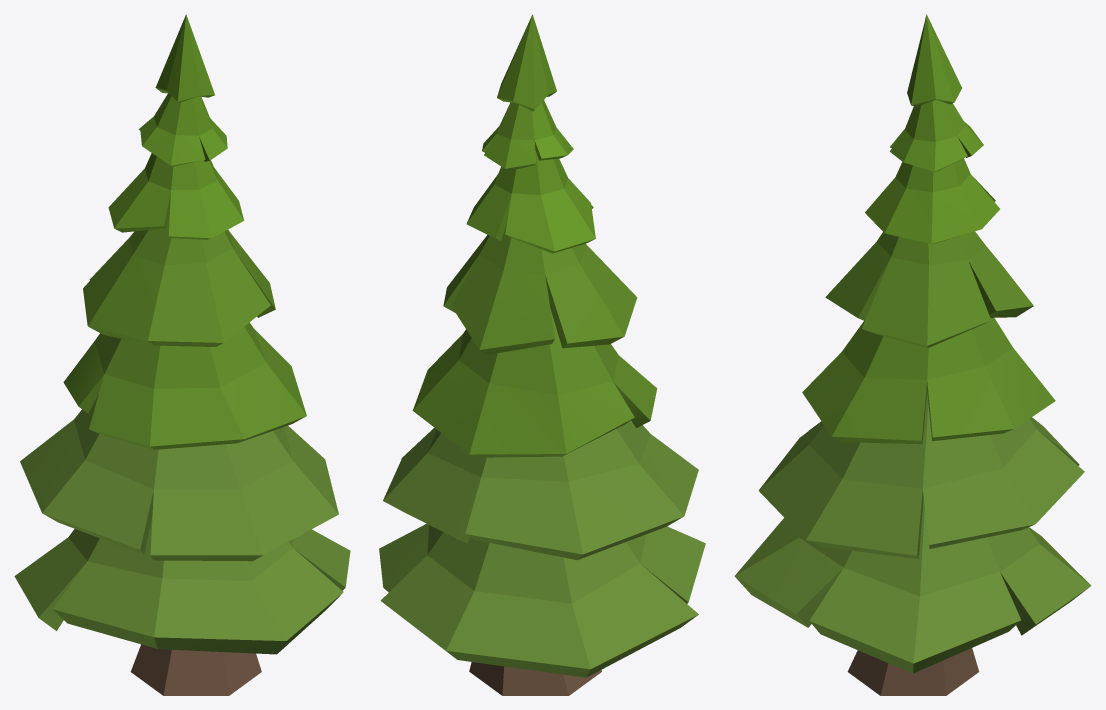
The model's file is tree_pine_1.fbx.
3 renders of one model, left to right at view 1: azimuth 30°, elevation 25°; view 2: azimuth 150°, elevation 25°; view 3: azimuth 270°, elevation 25°, orthographic.
Parts seen in each view (by area): view 1: tree_pine_1; view 2: tree_pine_1; view 3: tree_pine_1.
Boxes of the visible parts, x1,y1,x2,y2 form: tree_pine_1: (14,14,350,695); tree_pine_1: (379,14,705,695); tree_pine_1: (734,14,1091,695).
Bounding box in the file's own units: 534 × 1064 × 525.
